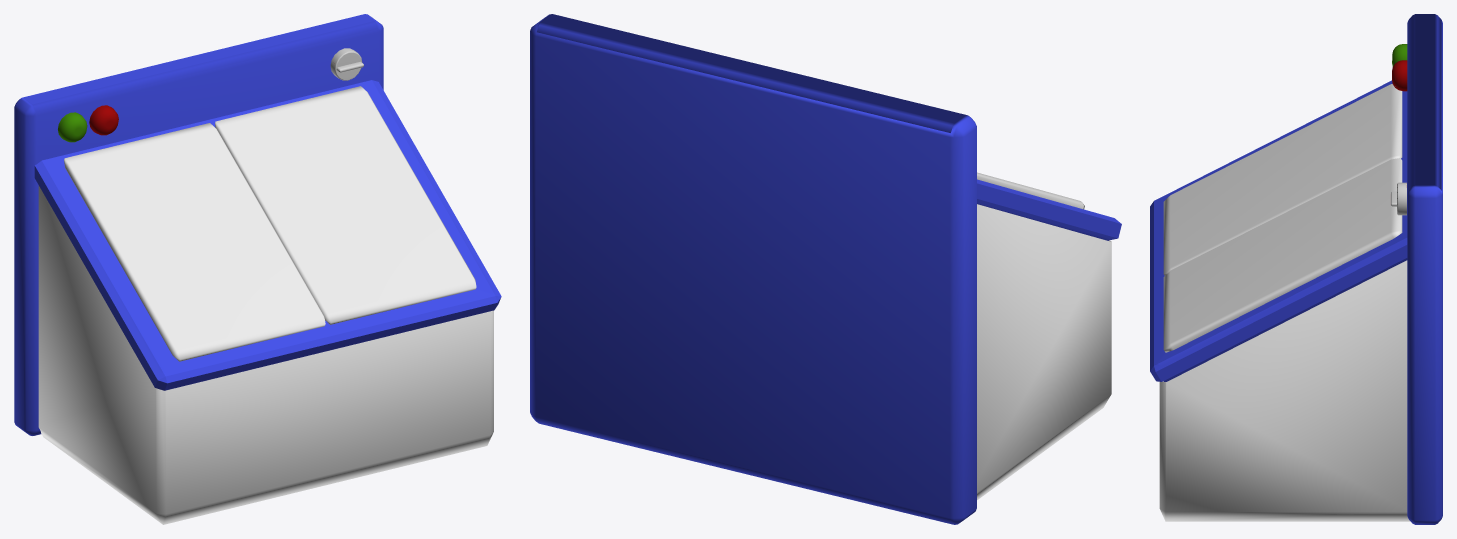
File: freezer3.fbx
The picture shows the model from 3 angles, left to right: view 1: azimuth 30°, elevation 25°; view 2: azimuth 150°, elevation 25°; view 3: azimuth 270°, elevation 25°; orthographic projection. The views are drawn at different scales.
Parts seen in each view (by area): view 1: counter, counter 2, left door, right door, adjuster, red button, green button; view 2: counter 2, counter, left door; view 3: counter, counter 2, right door, left door, red button, adjuster.
Part boxes in pixels (x1,y1,x2,y2): counter: [38, 185, 493, 524]; counter 2: [14, 14, 501, 435]; left door: [64, 123, 325, 361]; right door: [215, 86, 476, 324]; adjuster: [330, 48, 363, 80]; red button: [89, 105, 118, 135]; green button: [58, 112, 87, 142]; counter 2: [530, 14, 1121, 524]; counter: [977, 204, 1111, 499]; left door: [977, 172, 1084, 209]; counter: [1159, 260, 1410, 521]; counter 2: [1150, 14, 1442, 524]; right door: [1163, 158, 1402, 352]; left door: [1163, 84, 1402, 275]; red button: [1392, 60, 1407, 91]; adjuster: [1390, 182, 1406, 215].
Size of the model in its own units: 95.67 by 84.79 by 65.93.
3 materials, 1 textured.
